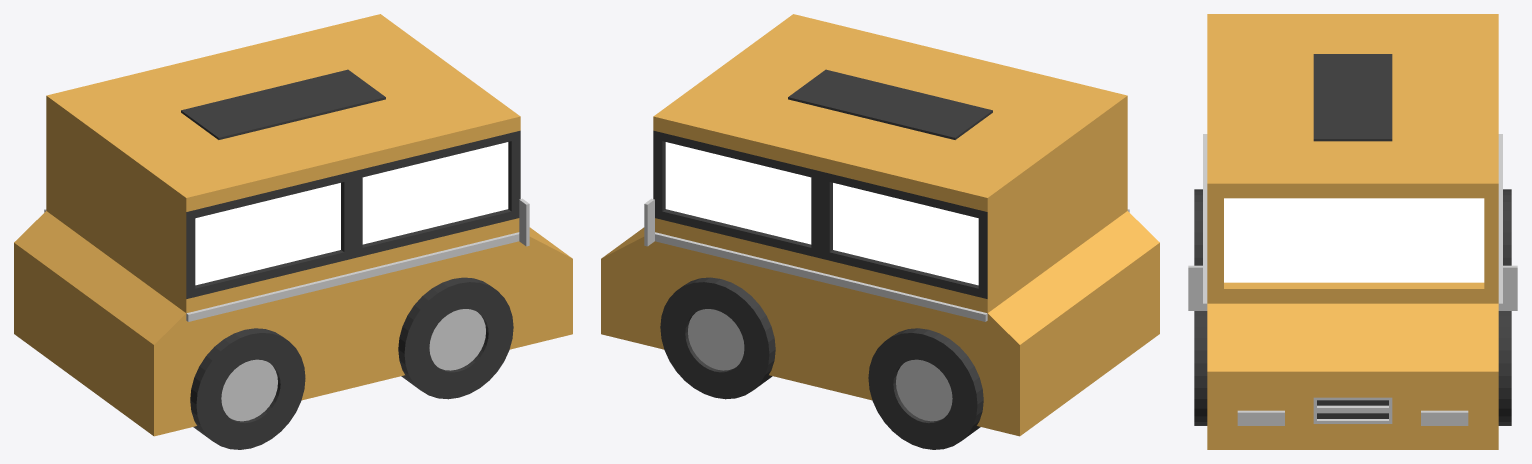
File: Car 2.3.fbx
3 renders of one model, left to right at view 1: azimuth 30°, elevation 25°; view 2: azimuth 150°, elevation 25°; view 3: azimuth 270°, elevation 25°, orthographic. The views are drawn at different scales.
Parts seen in each view (by area): view 1: Car_1.003; view 2: Car_1.003; view 3: Car_1.003.
Boxes of the visible parts, x1=… form: Car_1.003: x1=14, y1=14, x2=572, y2=449; Car_1.003: x1=601, y1=14, x2=1159, y2=449; Car_1.003: x1=1188, y1=14, x2=1517, y2=449.
Bounding box in the file's own units: 384 × 228 × 249.
